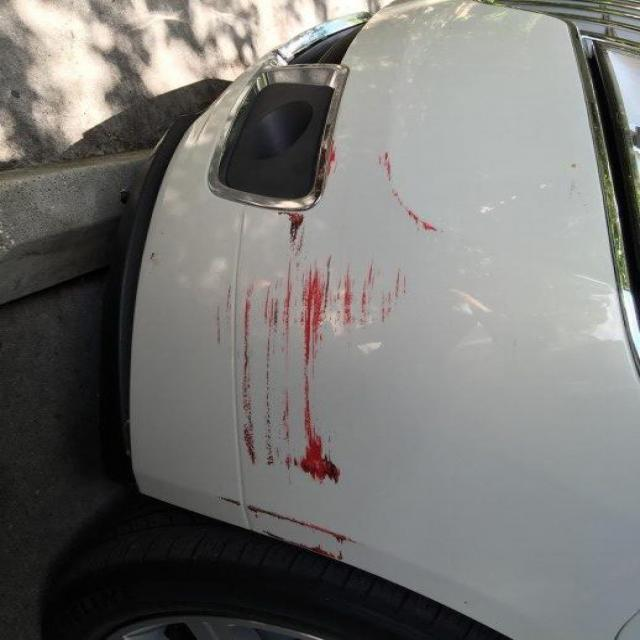scratch: (186, 125, 458, 569)
